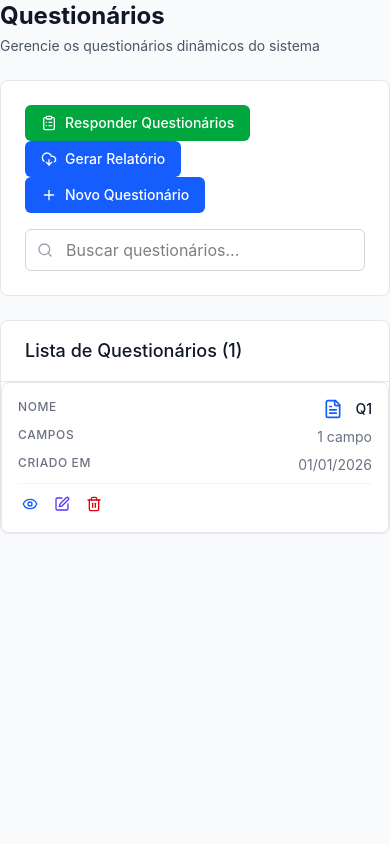
it: Questionnaires page › opens report modal
The width and height of the screenshot is (390, 844).
Click the button "Gerar Relatório" at (103, 159), box 25,141 -> 181,177
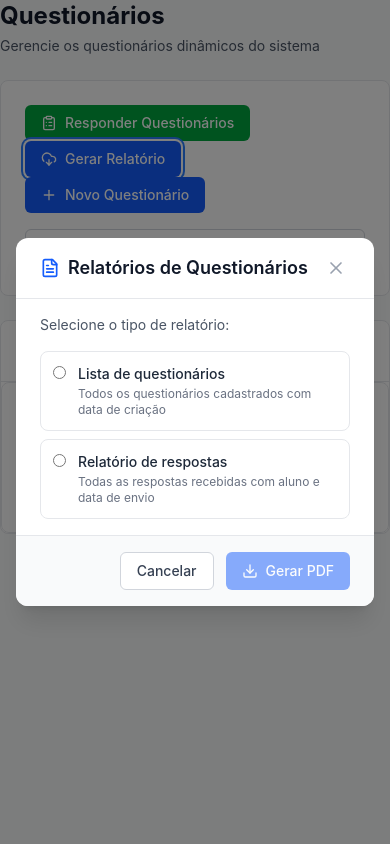
Result: the heading "Relatórios de Questionários" is shown at 68,254 -> 308,282
